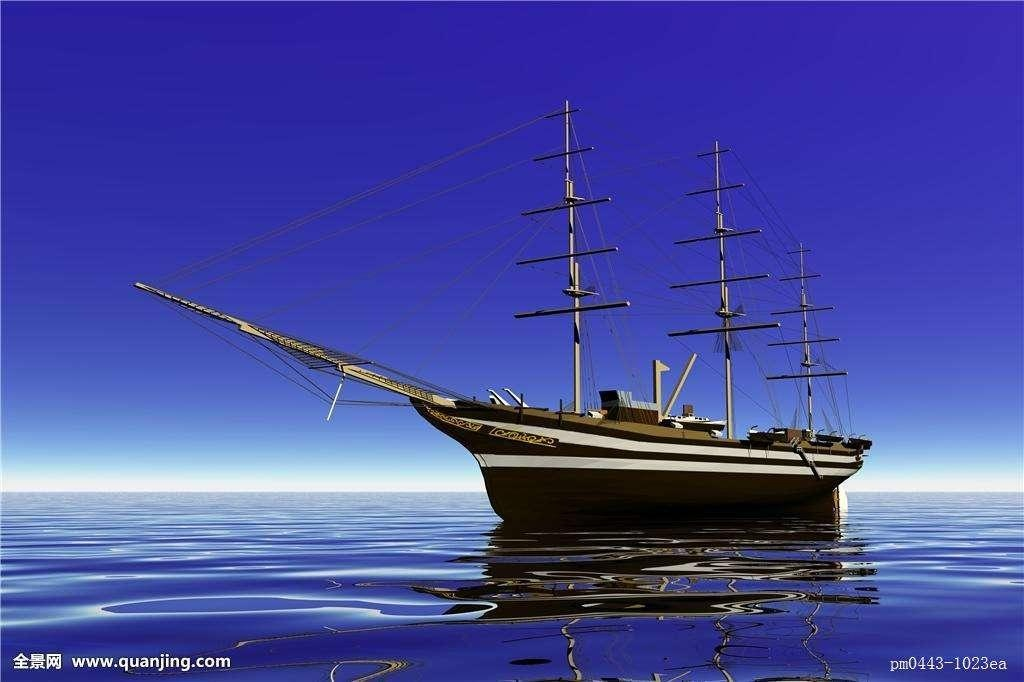fanchuan: (127, 98, 877, 517)
